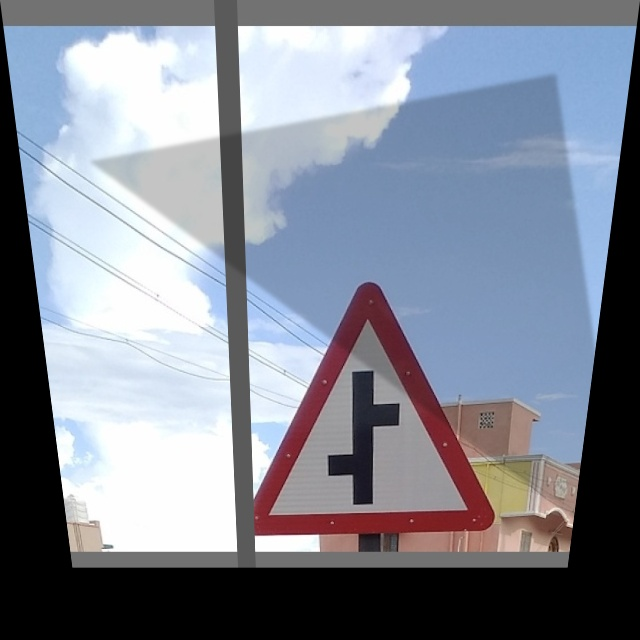Staggered_Intersection: (224, 258, 516, 538)
